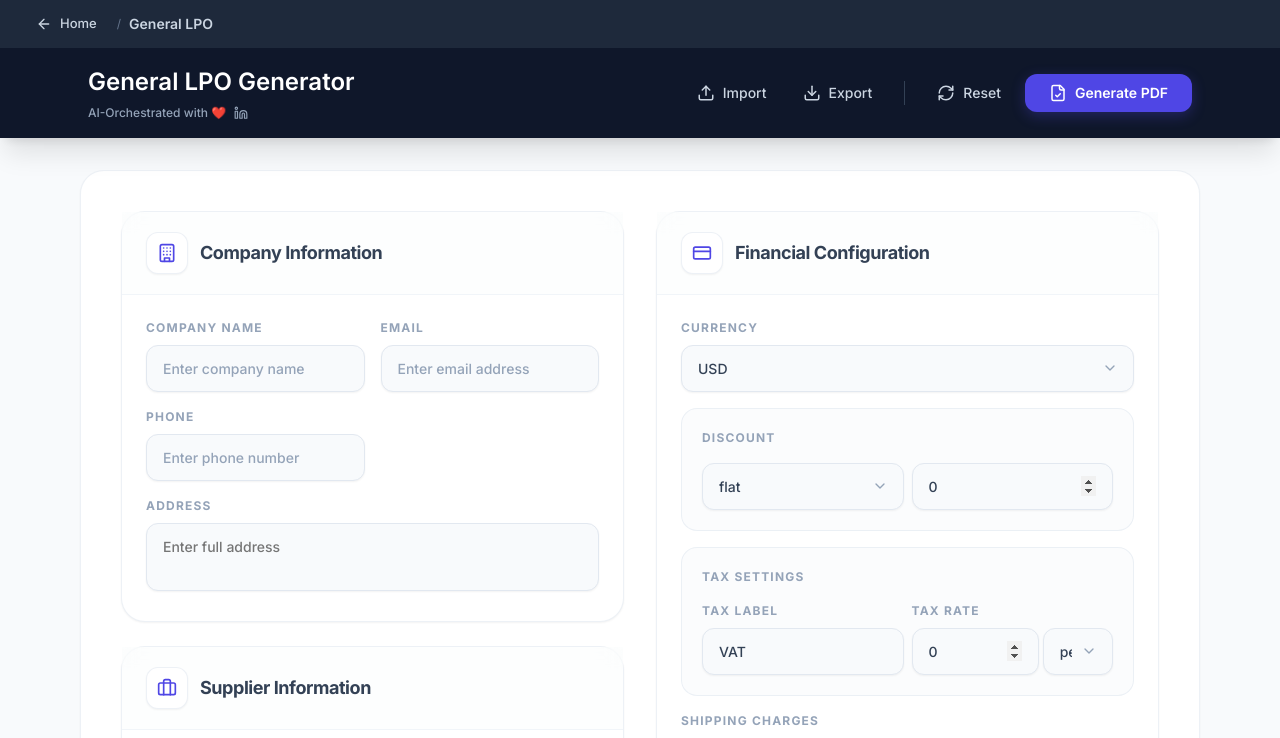
Scenario: GeneralLPOModule › handles Reset form data
This screenshot has width=1280, height=738.
In the field with placeholder "Enter company name": (255, 368) x1=146 y1=344 x2=364 y2=392, type "Temp Company"
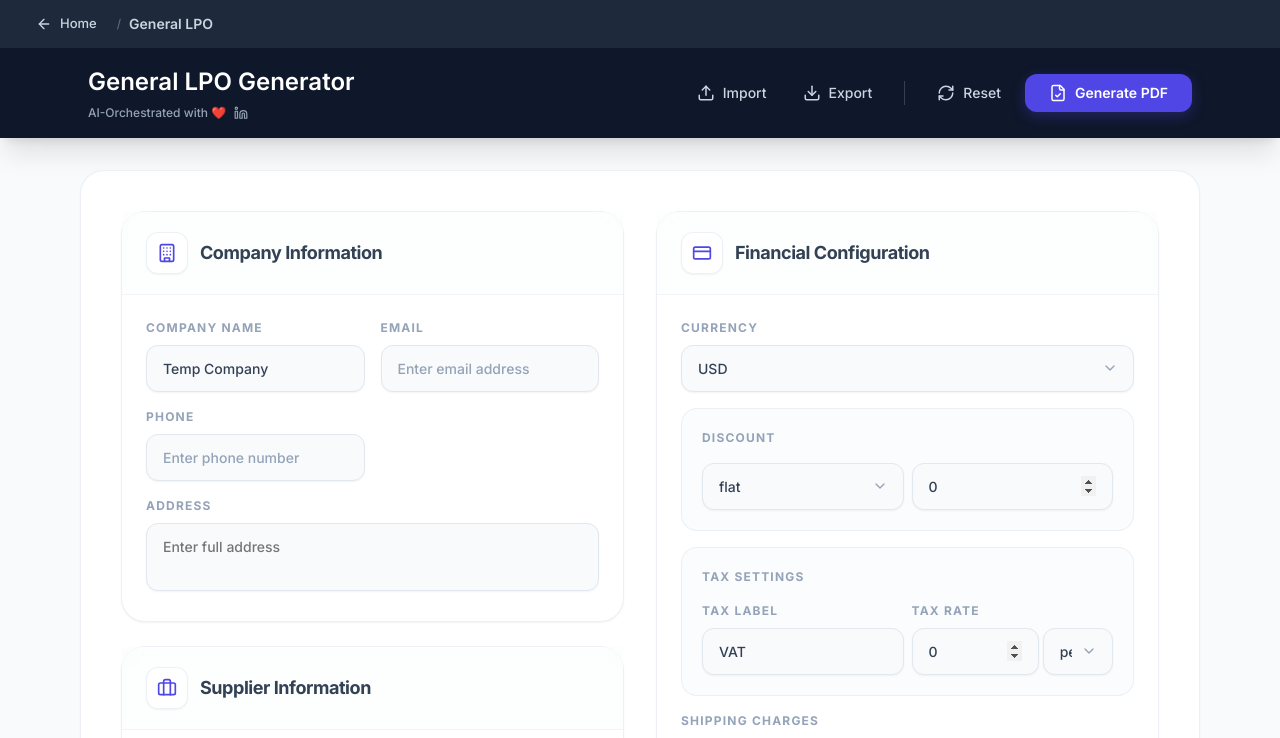
Click the button titled "Reset Form": (969, 92) x1=925 y1=76 x2=1013 y2=110
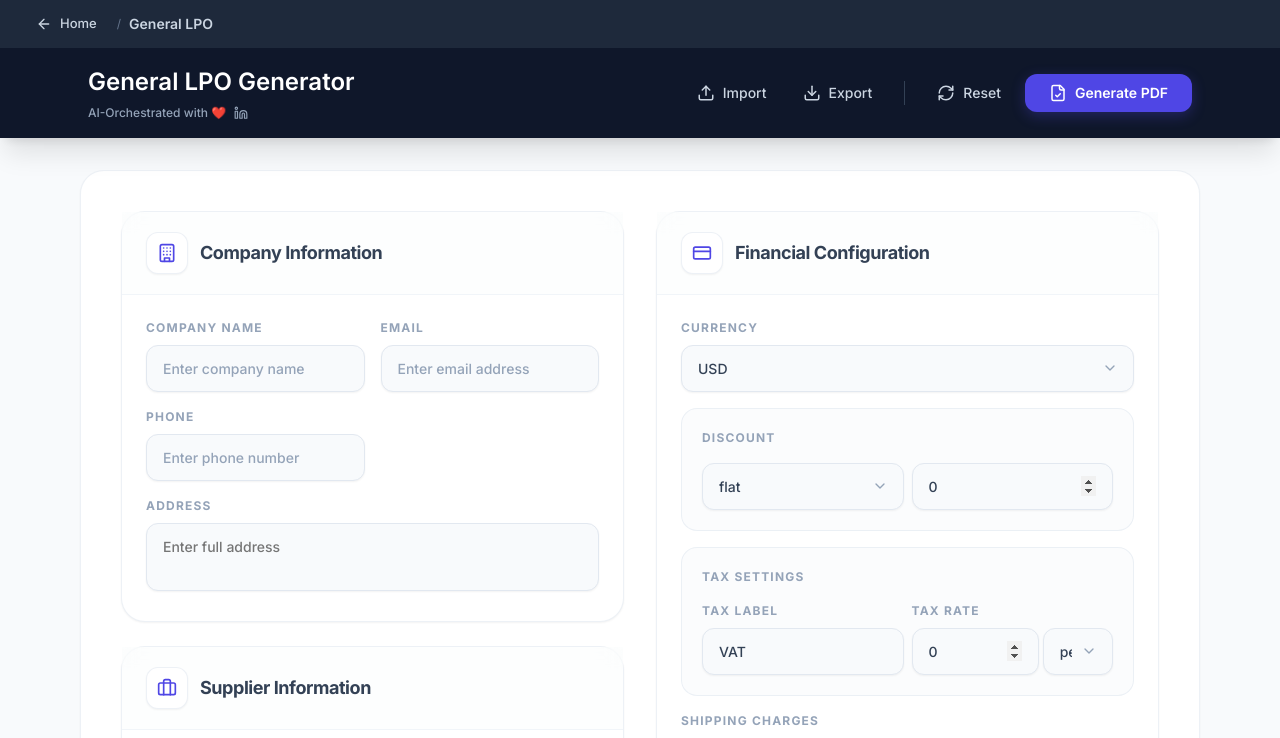
Expected: the field with placeholder "Enter company name" is empty, x1=146 y1=344 x2=364 y2=392
